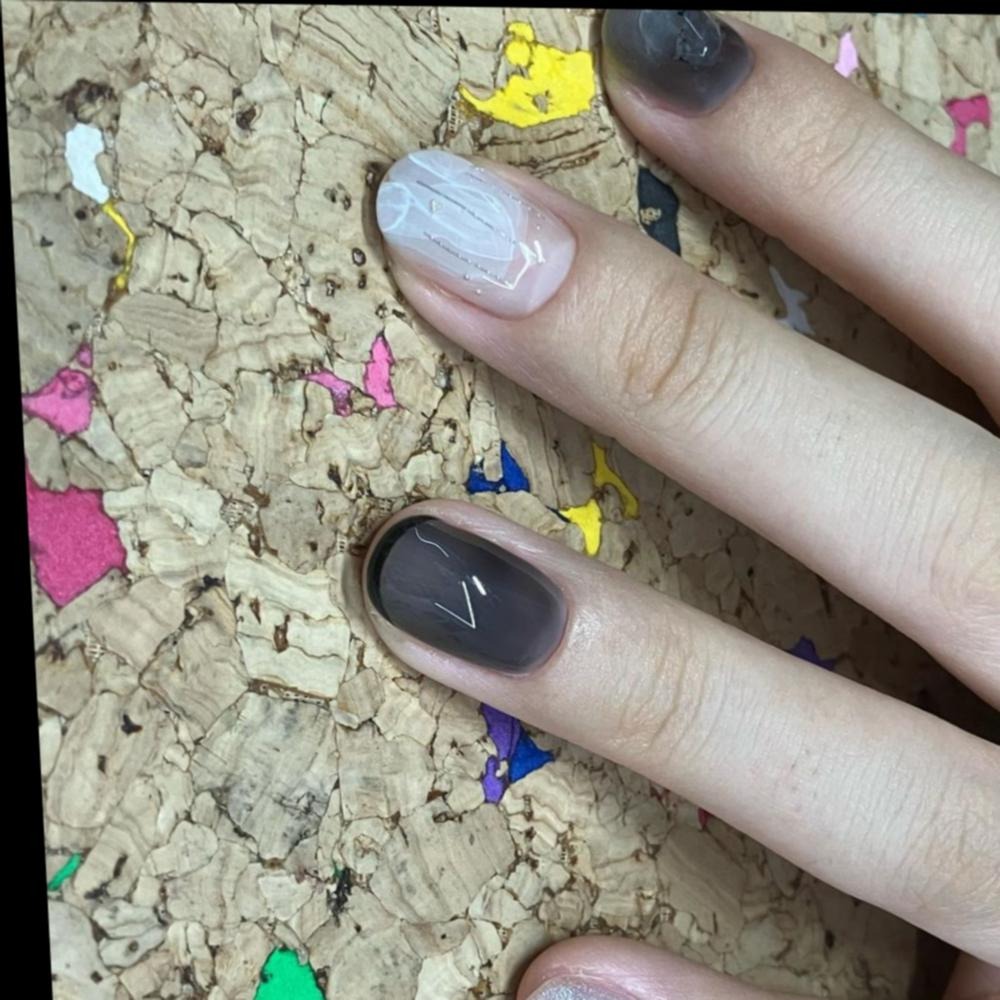nail: (356, 503, 576, 679), (370, 145, 583, 322), (597, 9, 761, 118), (512, 970, 665, 1000)
